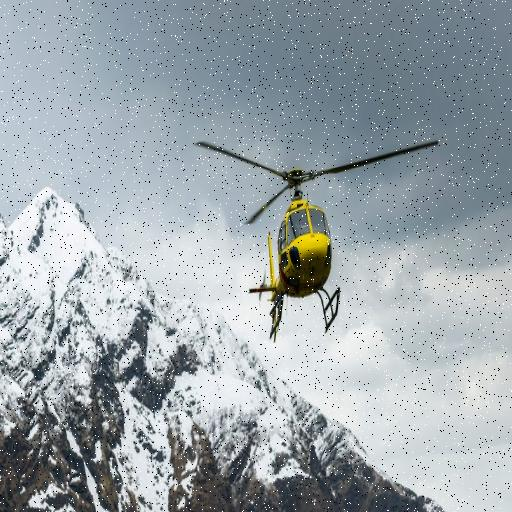helicopter: (196, 107, 446, 354)
